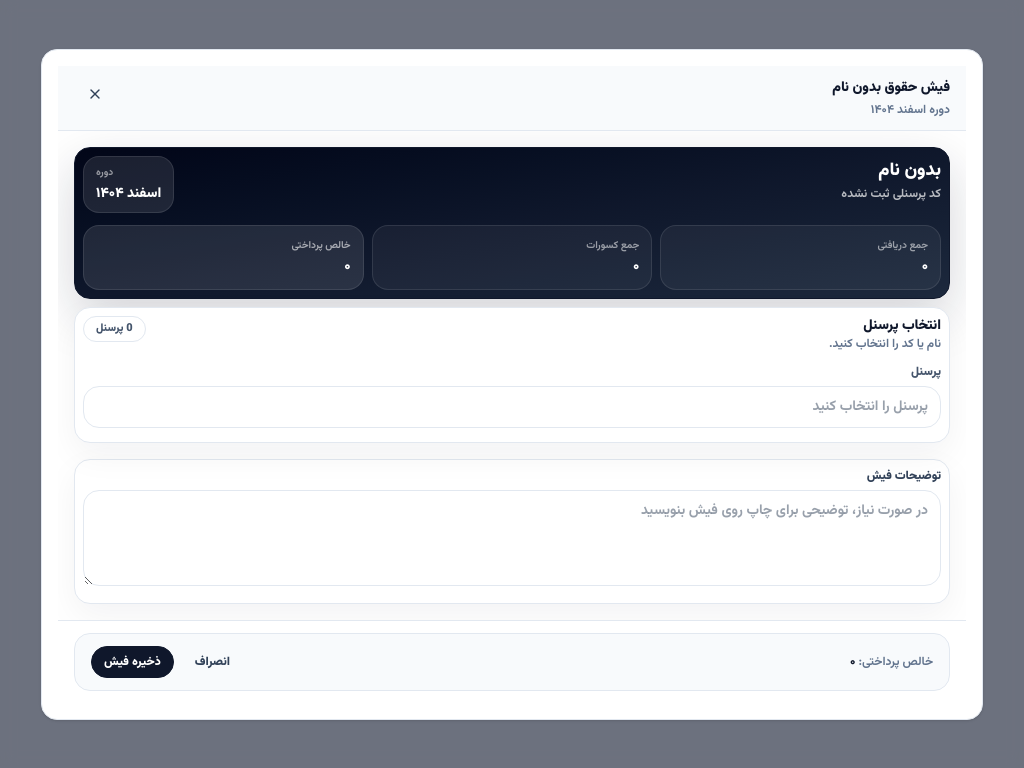
Scenario: PayslipEditorModal › shows a clear validation error when no employee is selected
Click the button "ذخیره فیش" at (132, 662), box [91,646,174,678]
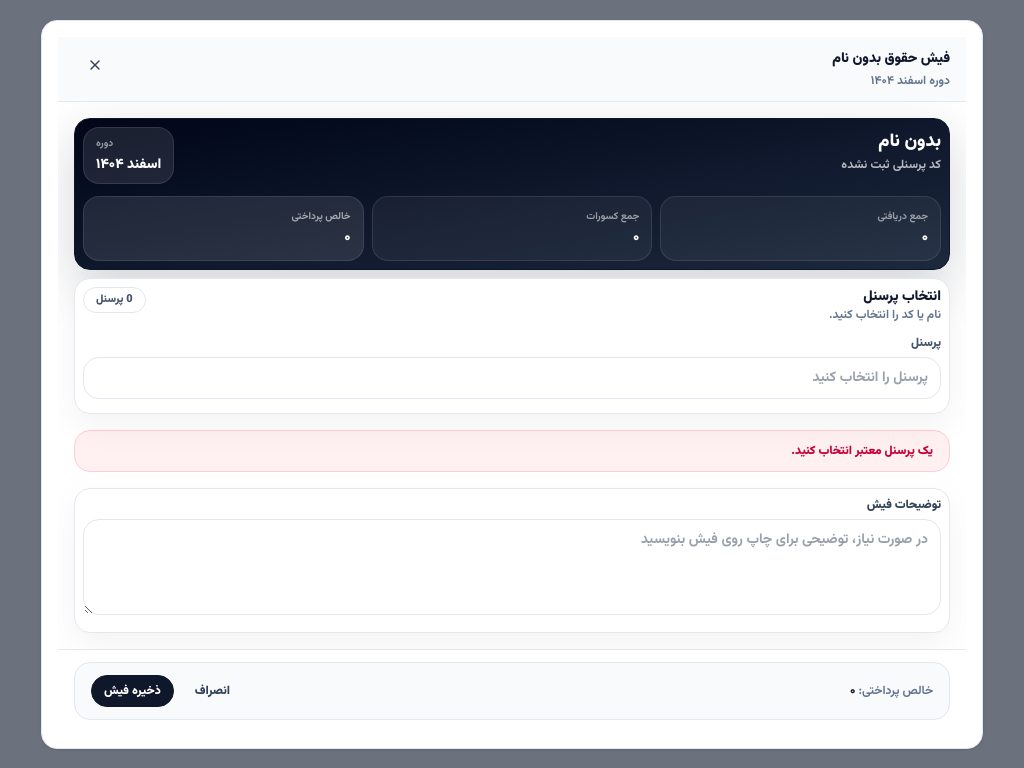
Now the text "یک پرسنل معتبر انتخاب کنید." is shown, box [74,430,950,472]
